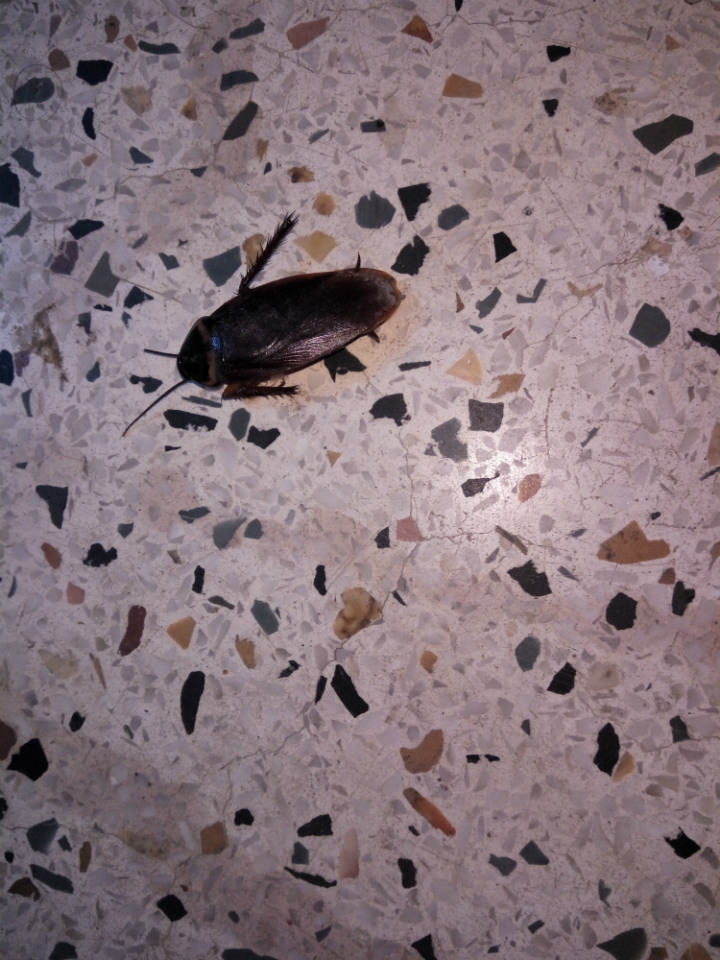cockroach: (53, 162, 525, 525)
